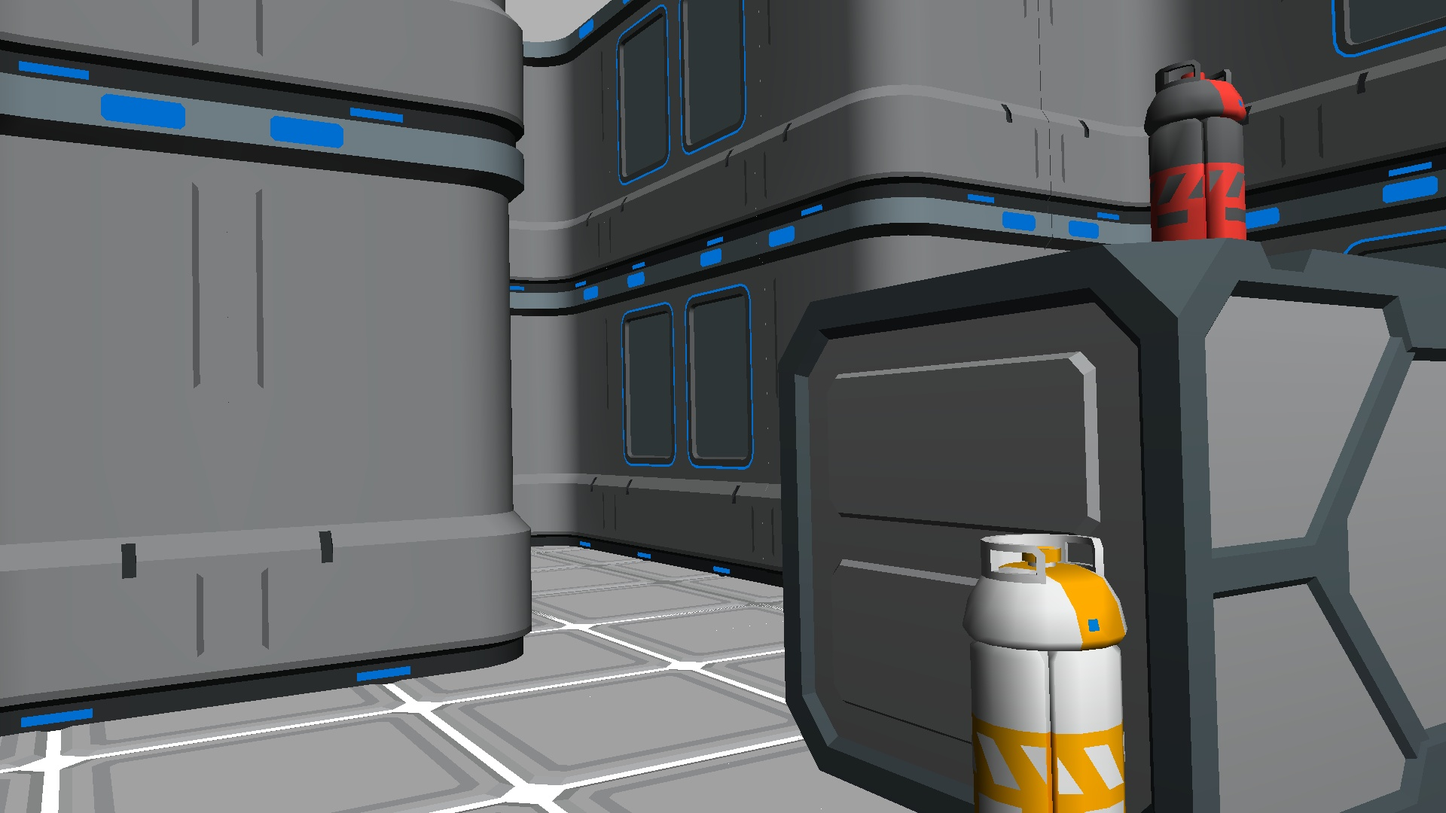red barrel: (1144, 59, 1246, 241)
yellow barrel: (963, 535, 1128, 813)
